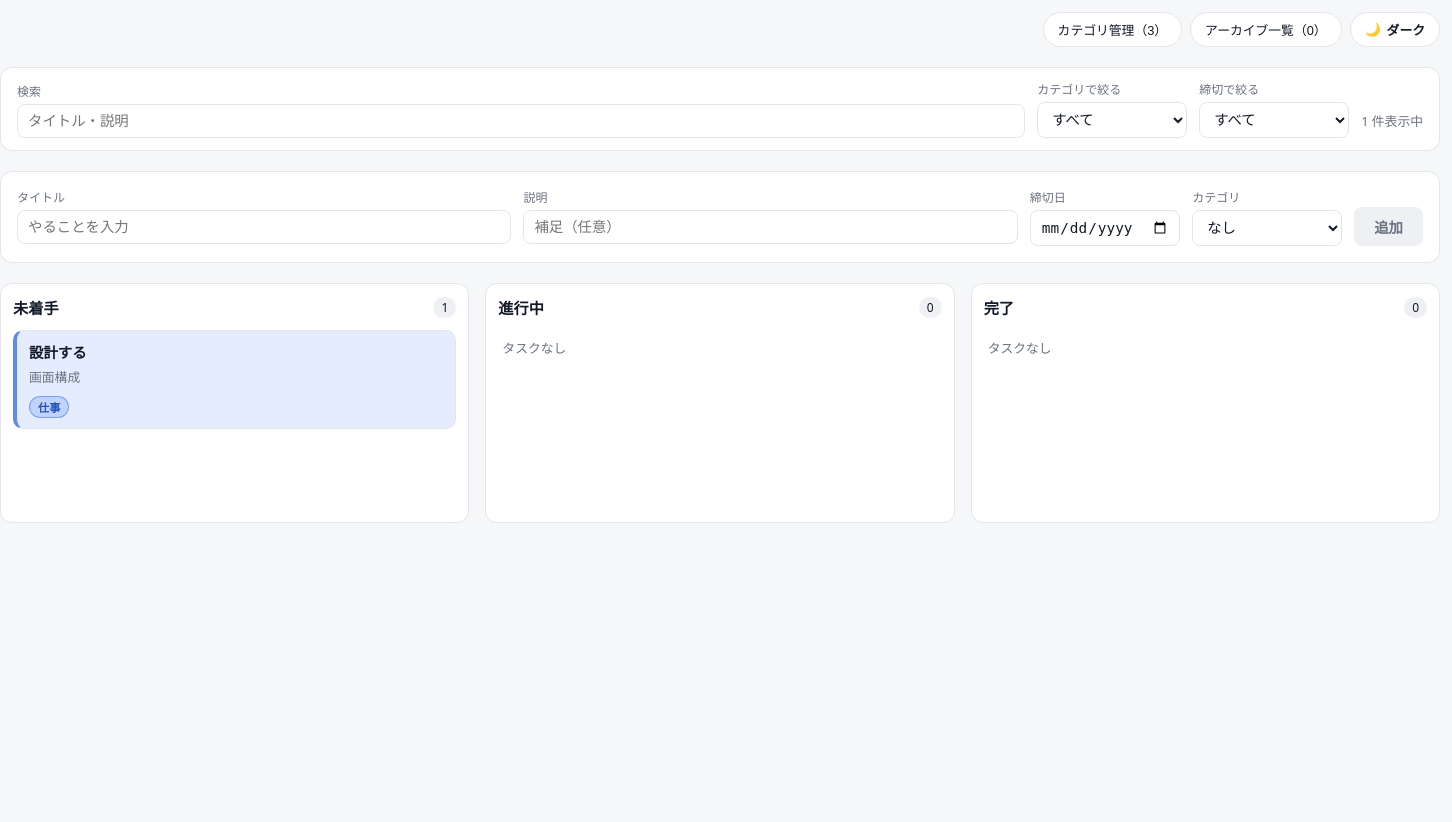
Scenario: KanbanBoard › カテゴリを削除すると、そのカテゴリのタスクから外れる
The width and height of the screenshot is (1452, 822).
Expected: the text "仕事" is shown, [29, 396, 69, 418]
Click the button "カテゴリ管理（3）" at (1112, 30), box [1043, 12, 1182, 47]
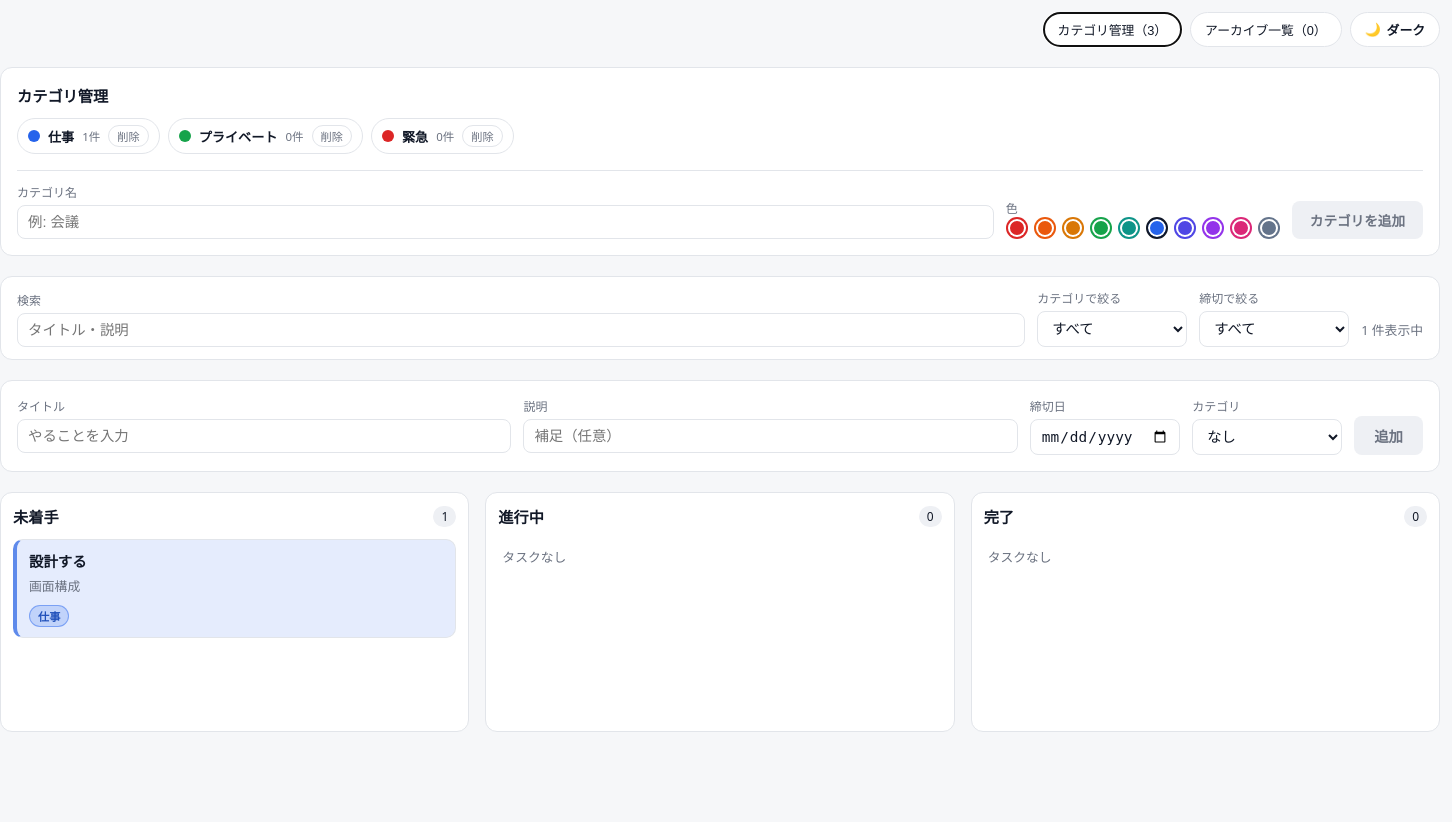
Now the text "1件" is shown, box [82, 128, 100, 144]
Click the button with aria-label "仕事 を削除" at (128, 136), box [108, 125, 149, 147]
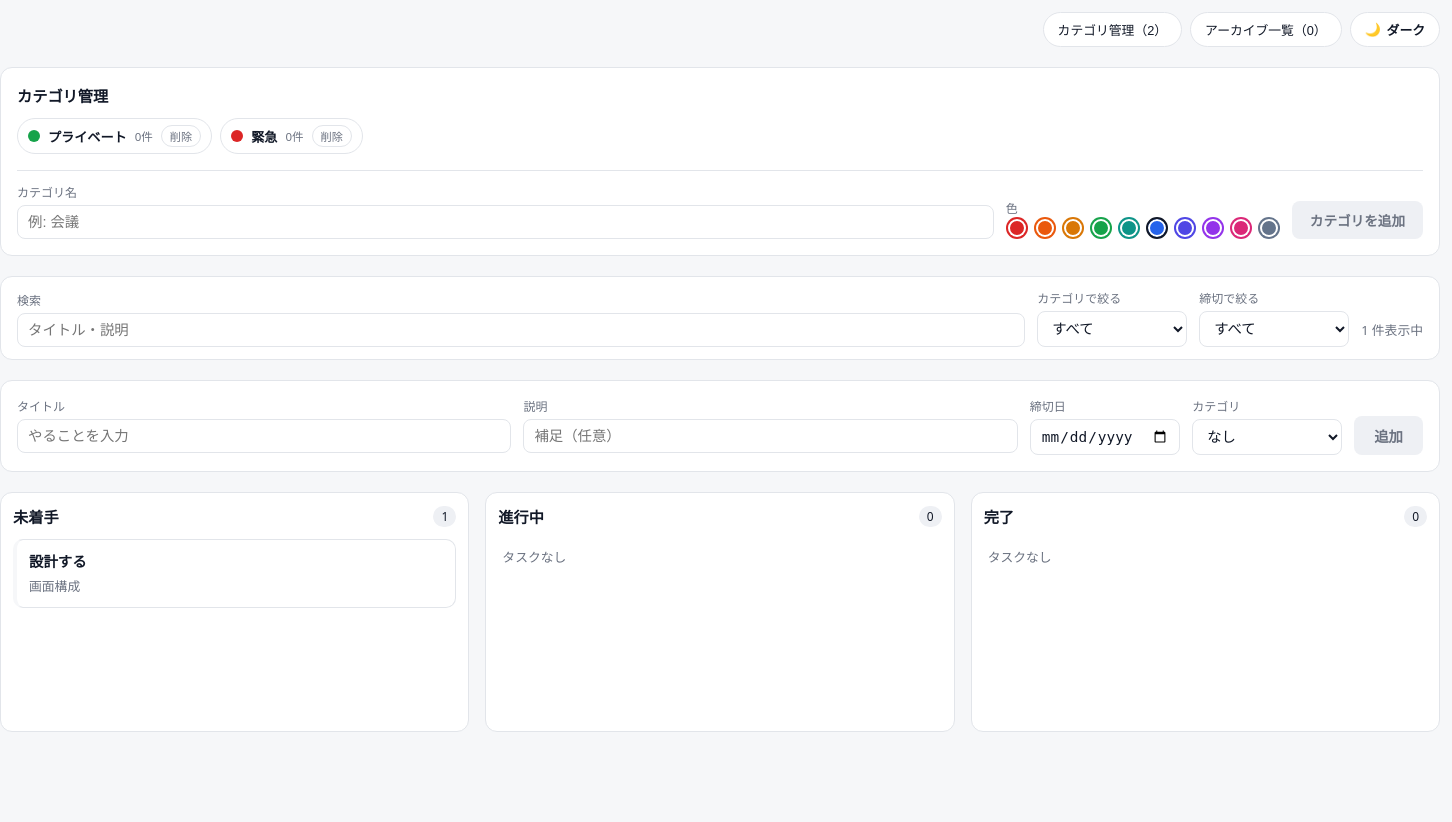
Expected: the heading "設計する" is shown, [29, 552, 87, 571]
Now the text "仕事" is gone
